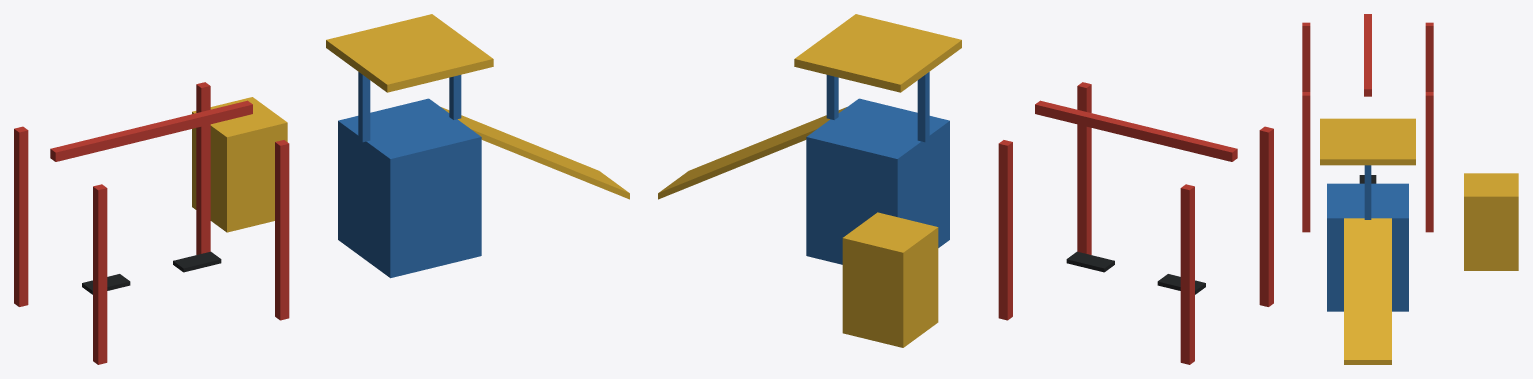
Rendered from play.glb.
3 views of the same model, side by side, from view 1: azimuth 30°, elevation 25°; view 2: azimuth 150°, elevation 25°; view 3: azimuth 270°, elevation 25° (orthographic). The views are drawn at different scales.
Visible parts, largest first — view 1: play; view 2: play; view 3: play.
Boxes of the visible parts, <box> form: play: <box>14,14,629,364</box>; play: <box>658,14,1273,364</box>; play: <box>1302,14,1518,364</box>.
Bounding box in the file's own units: 7.4 × 2.5 × 3.16.
